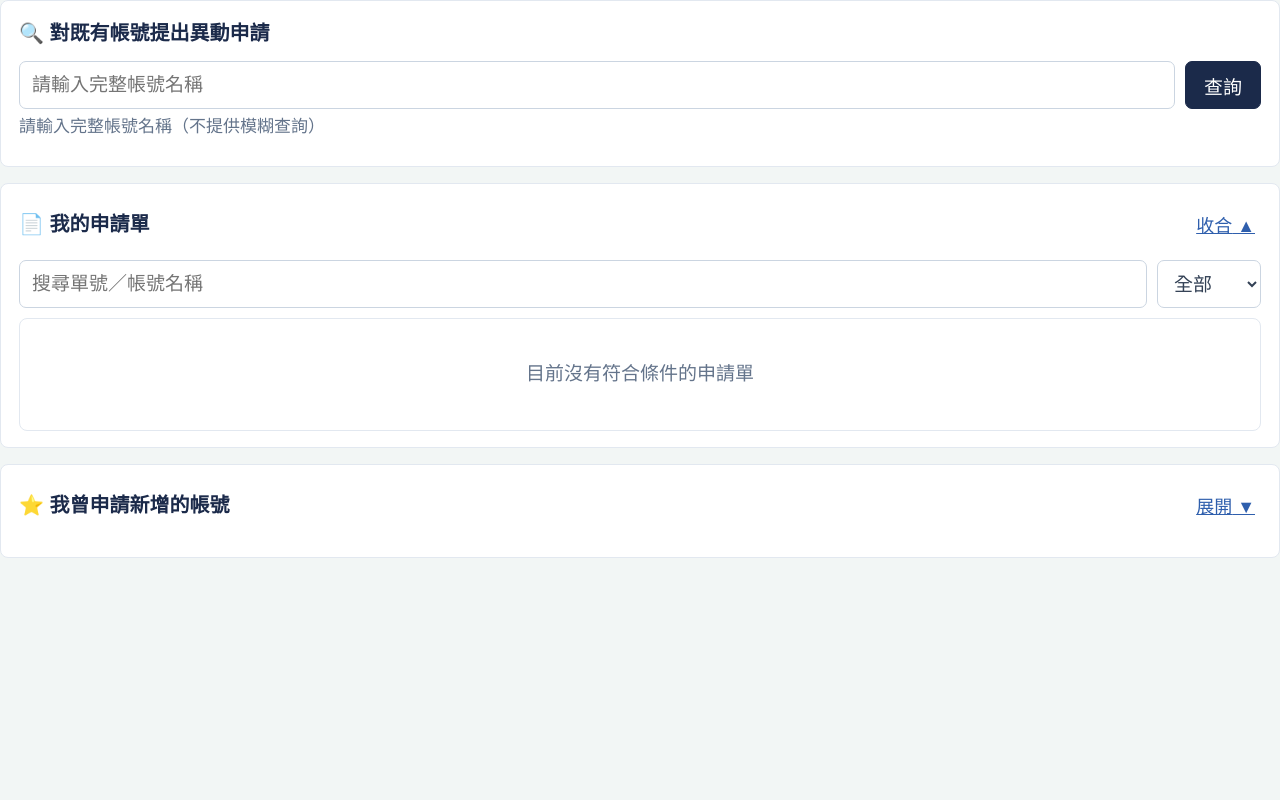
Test: 帳號申請單列表 › 查無顯示 U06
Type "s" into the field with placeholder "請輸入完整帳號名稱" at x=597, y=85, box left=19, top=61, right=1175, bottom=109
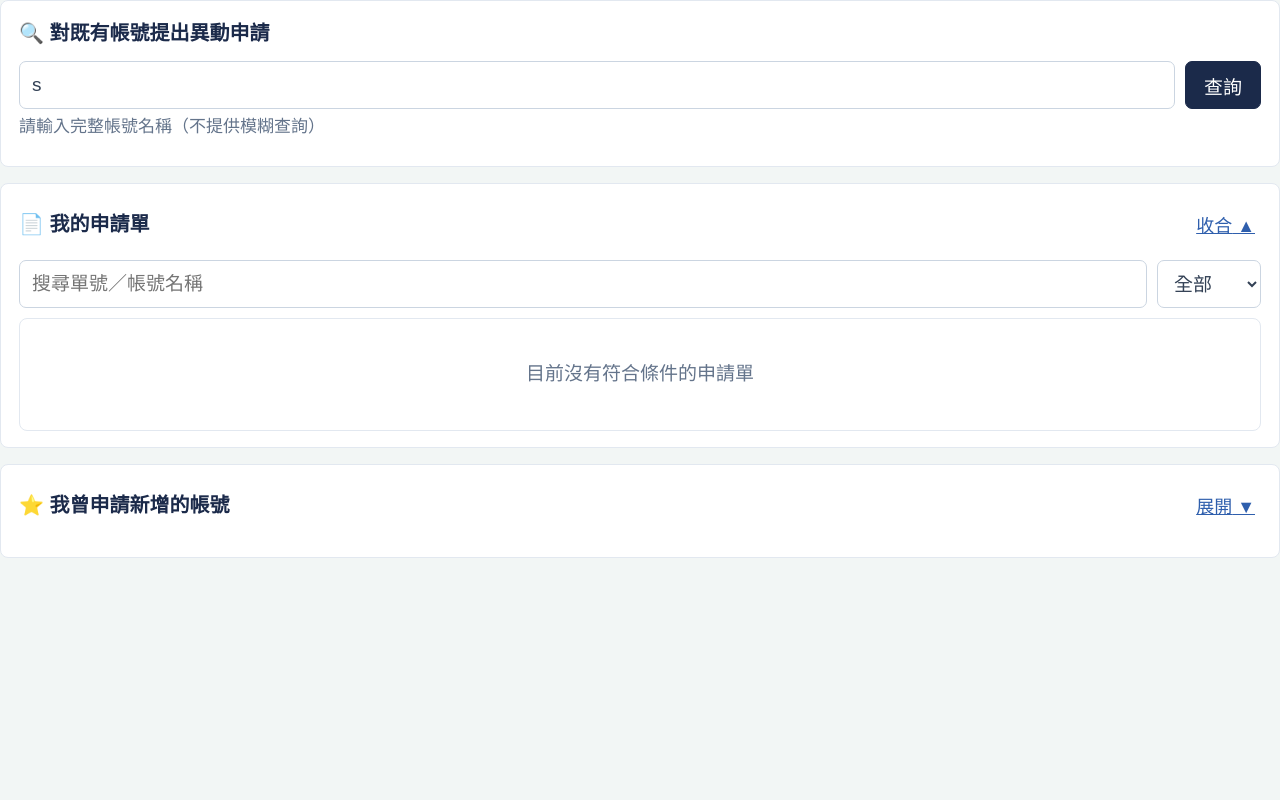
Submit the form with class "lookup", box left=19, top=61, right=1261, bottom=109
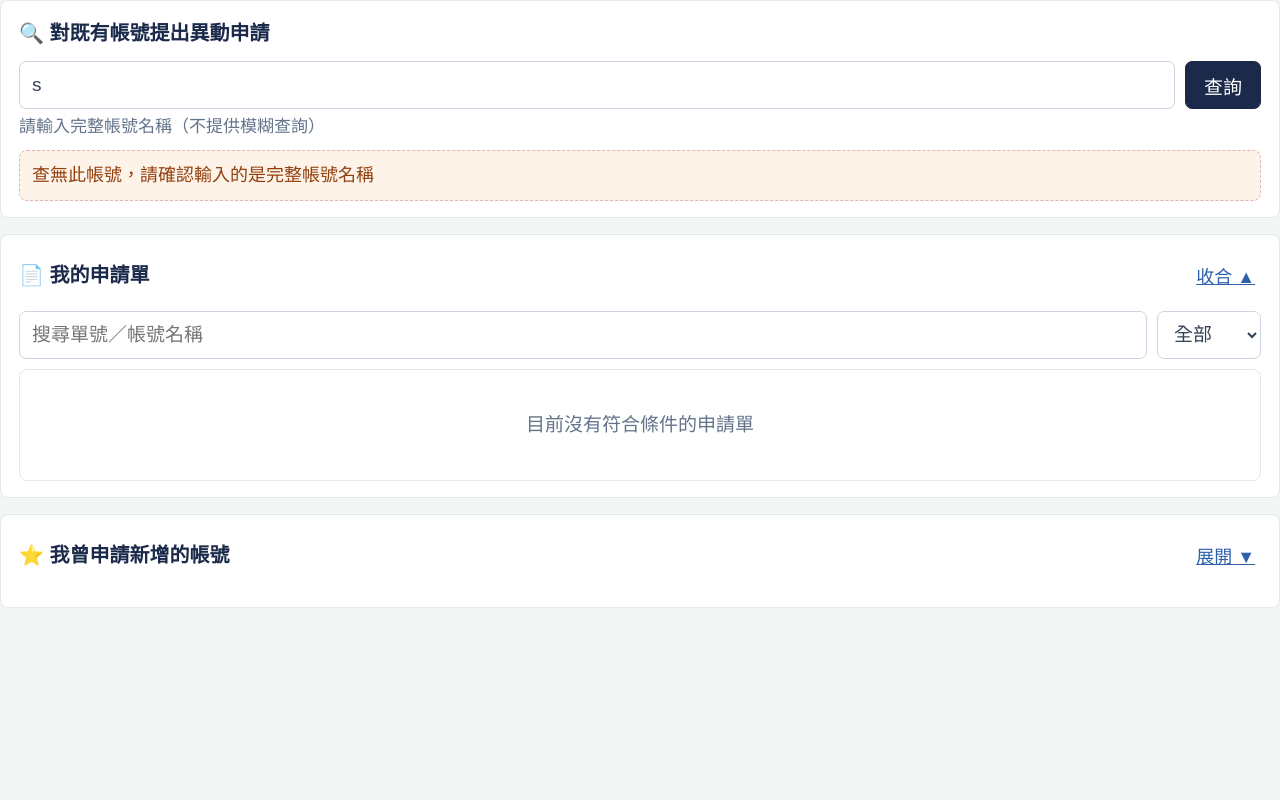
Now the text with class "lookup-none" reads "查無此帳號，請確認輸入的是完整帳號名稱", box left=32, top=165, right=374, bottom=185
